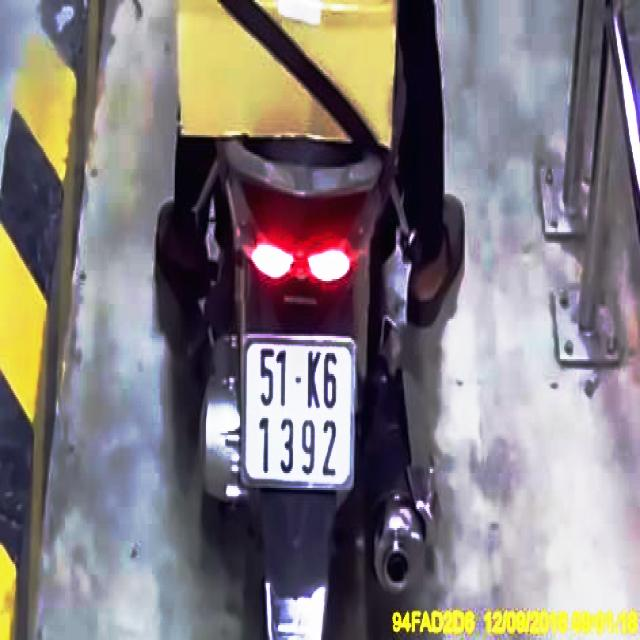license_plate: (241, 332, 359, 489)
